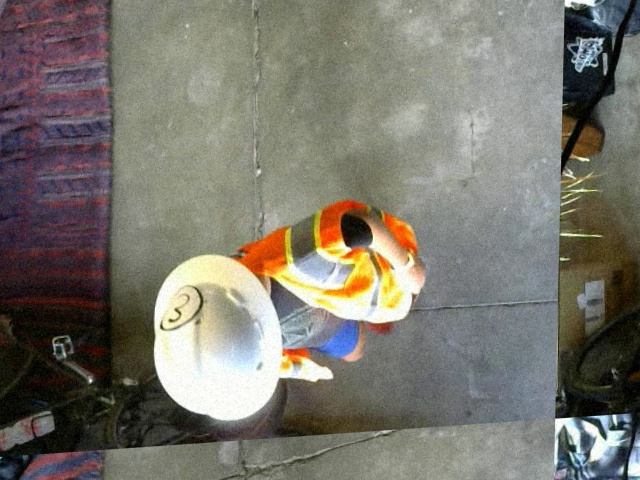three: (156, 283, 201, 333)
